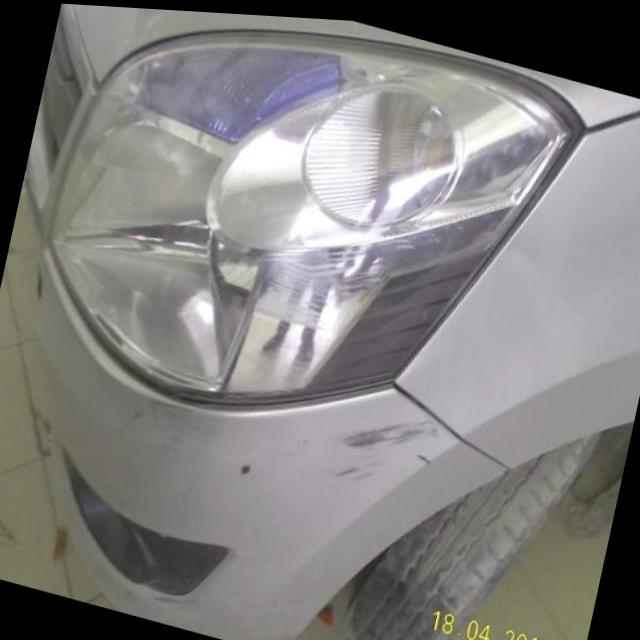Car-Damage: (328, 384, 444, 498)
